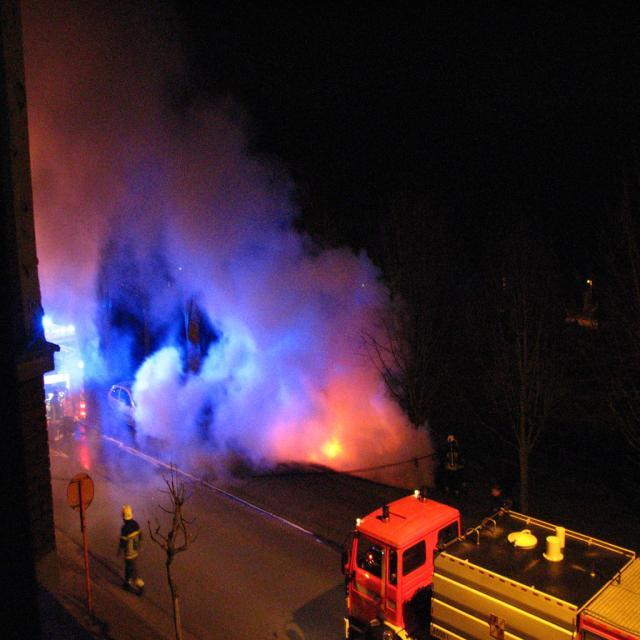Fire: (318, 432, 342, 458)
